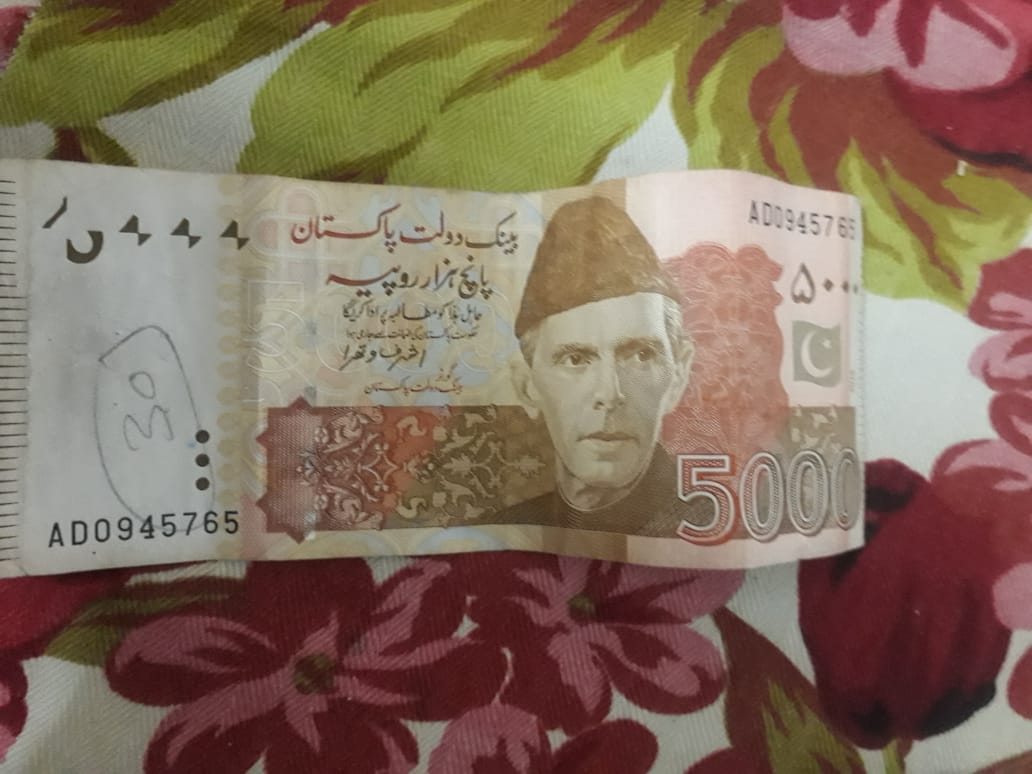5000 rupee: (10, 135, 872, 599)
